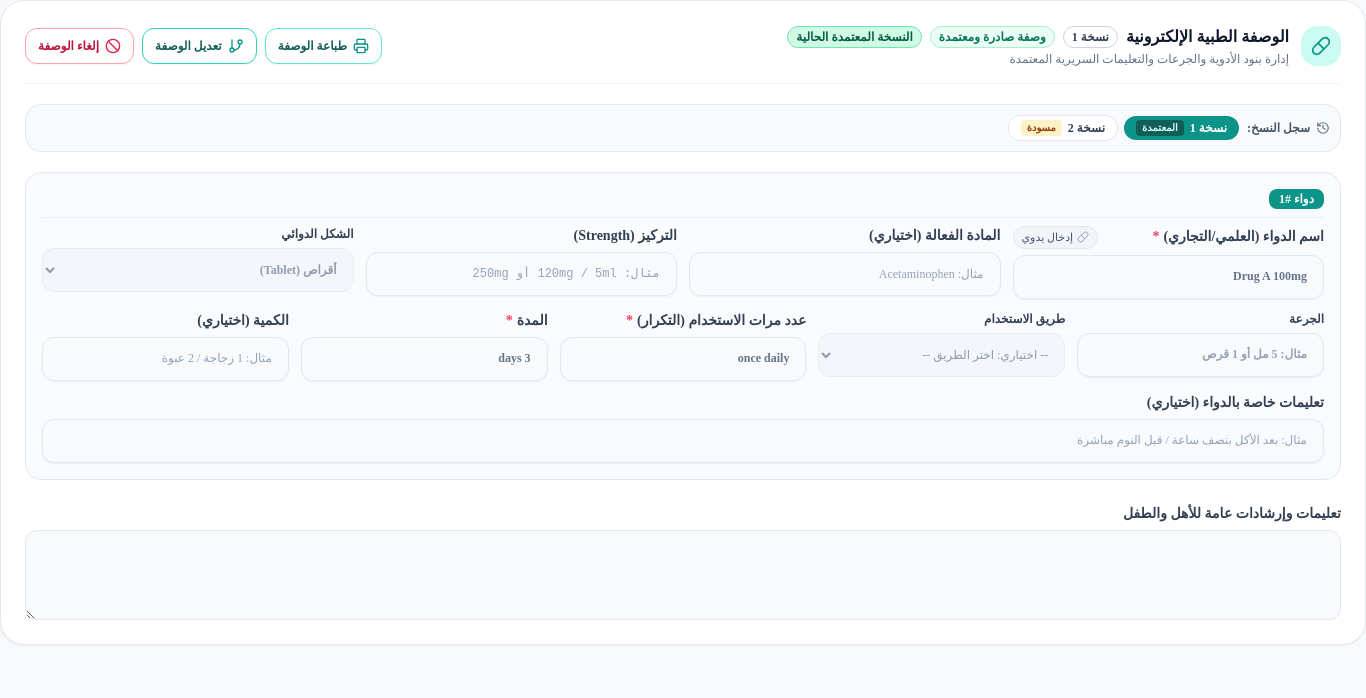
Scenario: Prescription Revision & Amendment Workflow (نظام مراجعة وتعديل الوصفات الصادرة) › 6. Production Regression Suite: Revision Selection Stability, URL Sync, and Security › 2. delayed fetch response for v1 does not overwrite newly selected v2 (request sequencing)
Expected: the text with test id "rx-revision-badge" reads "نسخة 1", [1072,30,1109,44]
Doctor clicks revision 2
Click the button with test id "rx-revision-tab-2".
click(1063, 128)  # box [1008,115,1118,141]
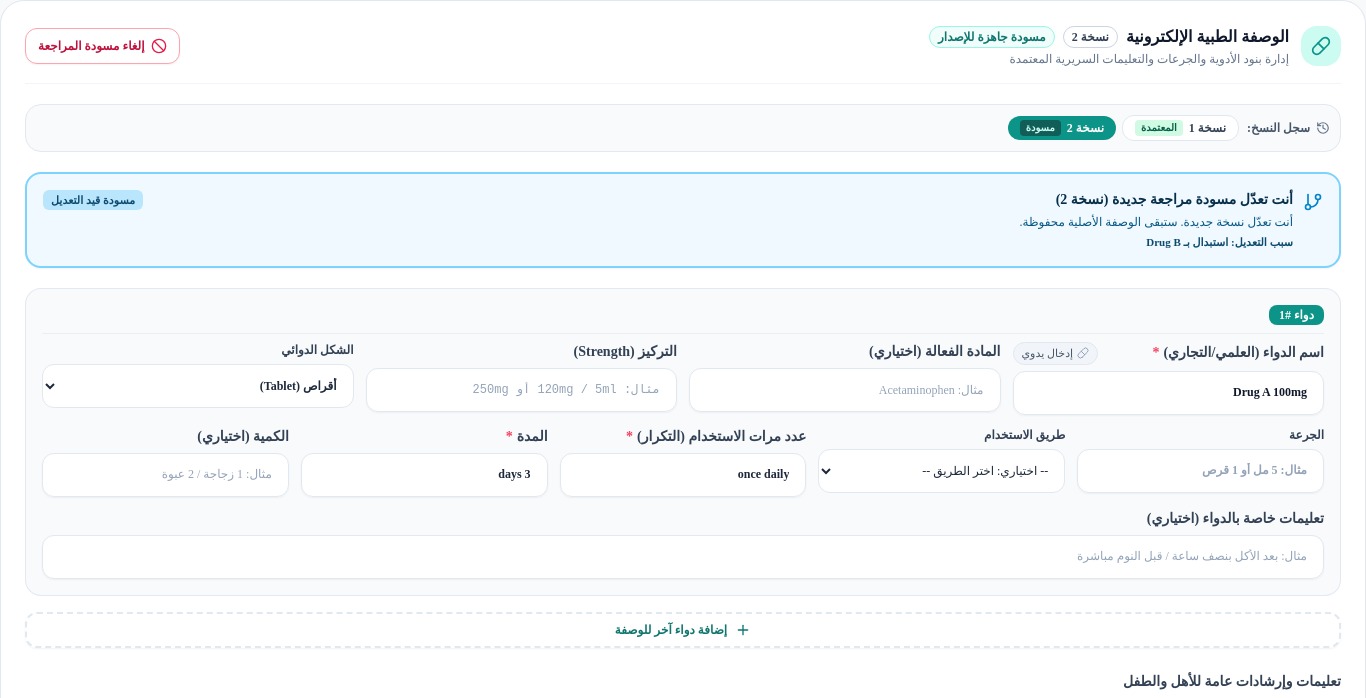
Now the text with test id "rx-revision-badge" reads "نسخة 2", box [1072,30,1109,44]
